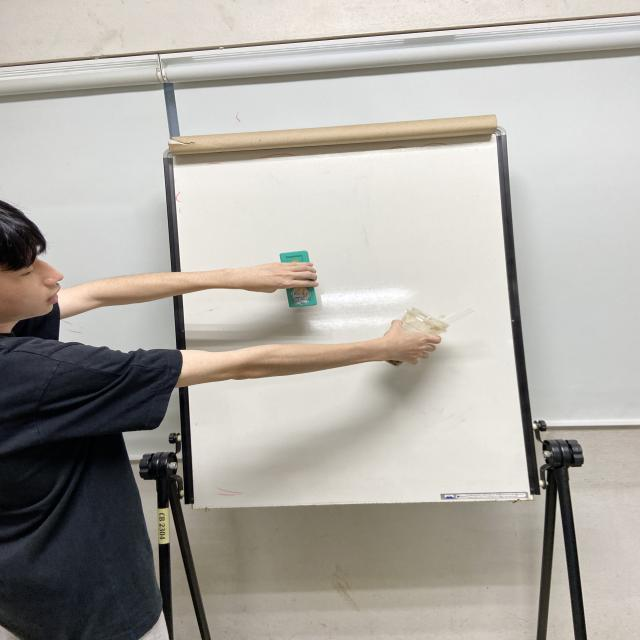cup: (378, 308, 450, 368)
